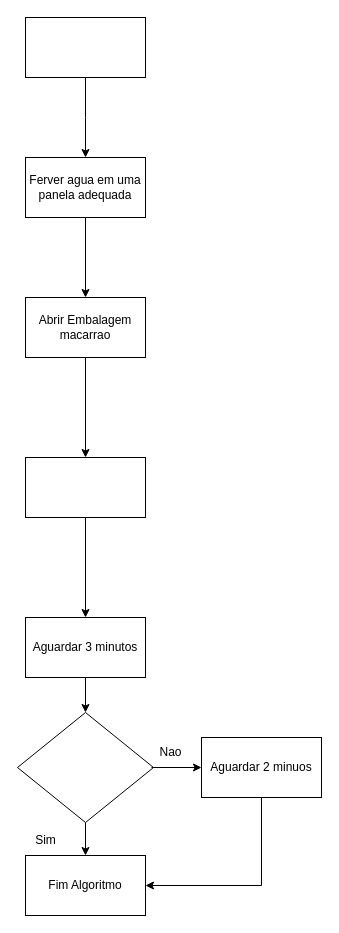
The diagram is 339 pixels wide and 933 high, and some of its shapes have lost their labels. The centre of each missing label's shape, as x and y in pixels:
"Colocar macarrao na panela e adicionar tempero" goes at (x=85, y=487).
"Inicio Algoritmo" goes at (x=85, y=47).
"O Macarracao esta cozido?" goes at (x=85, y=767).
